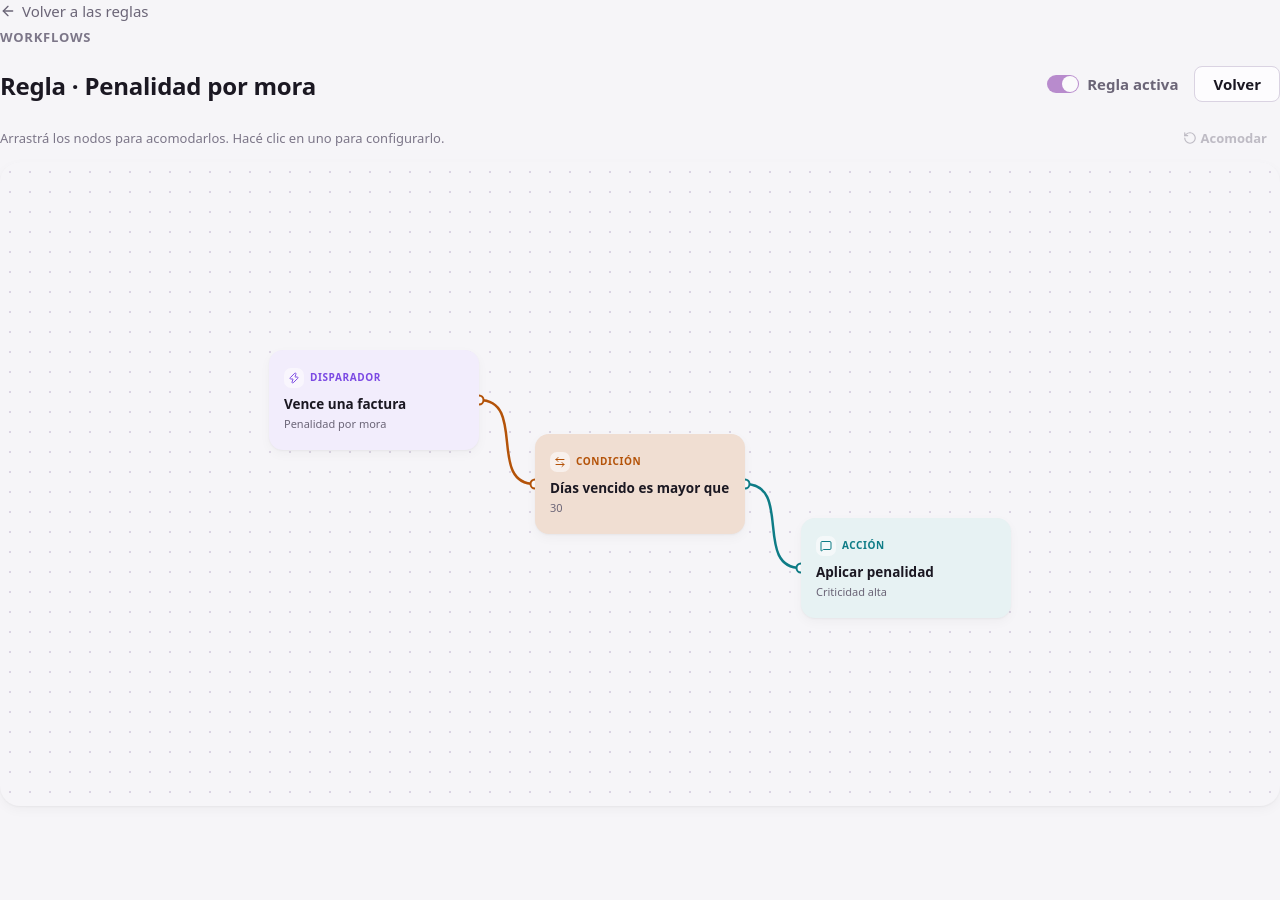
ReglaWorkflowEditorPage › en solo lectura no ofrece Guardar y deshabilita los controles
The width and height of the screenshot is (1280, 900).
What coordinates should you click on to do the following:
click the button "Disparador Vence una factura Penalidad por mora"
I would click on:
 (374, 400)
Its box is [269,350,479,450].
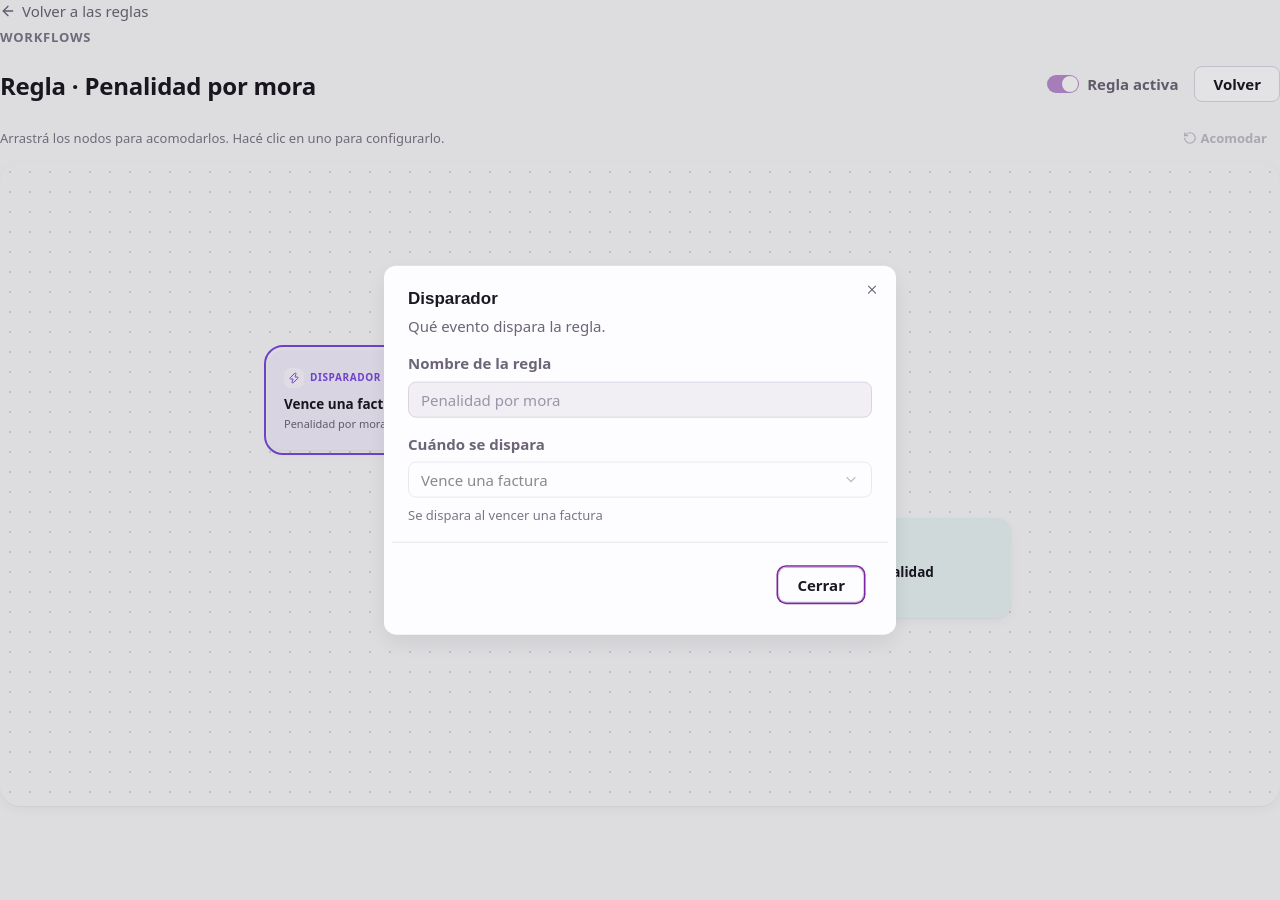
Expected: the field labelled "Nombre de la regla" is disabled, [408,381,872,417]
Expected: the button "Cerrar" is shown, [778,566,864,602]
